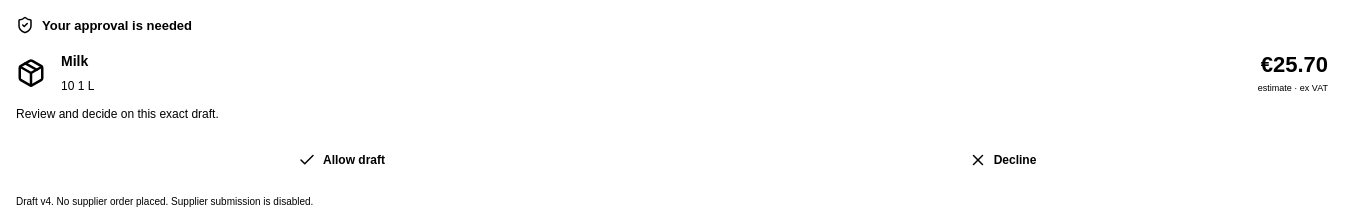
Test: inline purchase decisions › submits the viewed revision with approve=true and displays the persisted result
Step 1. Click the button "Allow draft" → (342, 160), box [16, 139, 667, 181]
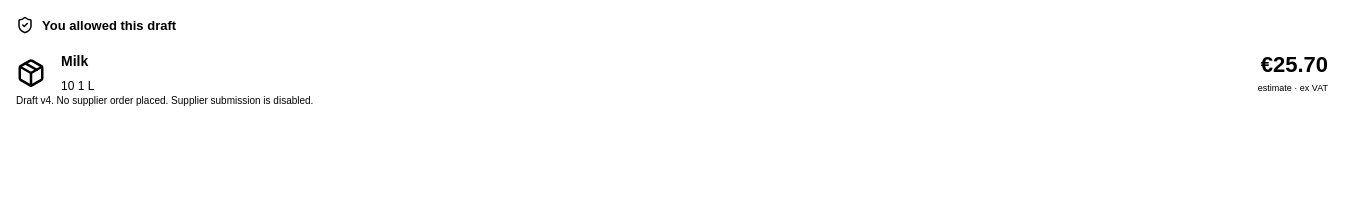
Check: the text "No supplier order placed" is shown, box [57, 95, 313, 106]
Check: the text "You allowed this draft" is shown, box [42, 18, 176, 32]
